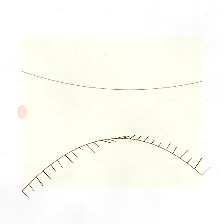corneal_ulcer: (91, 99, 143, 140)
